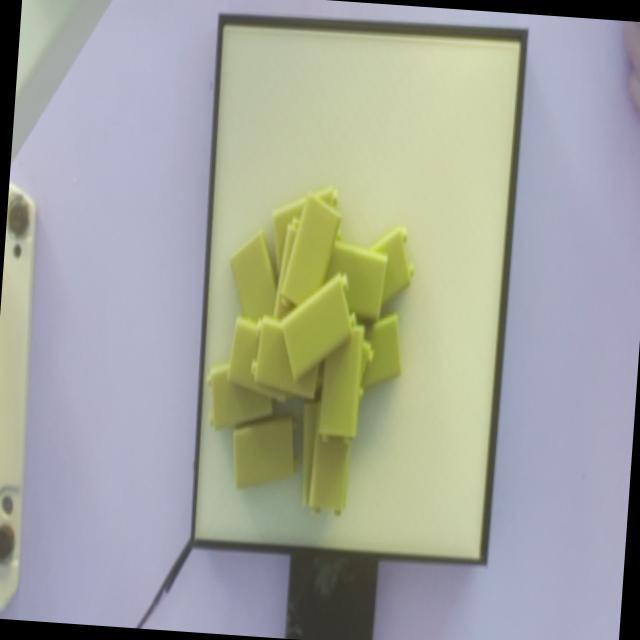bateria: (281, 272, 356, 384)
mesa: (190, 13, 527, 565)
